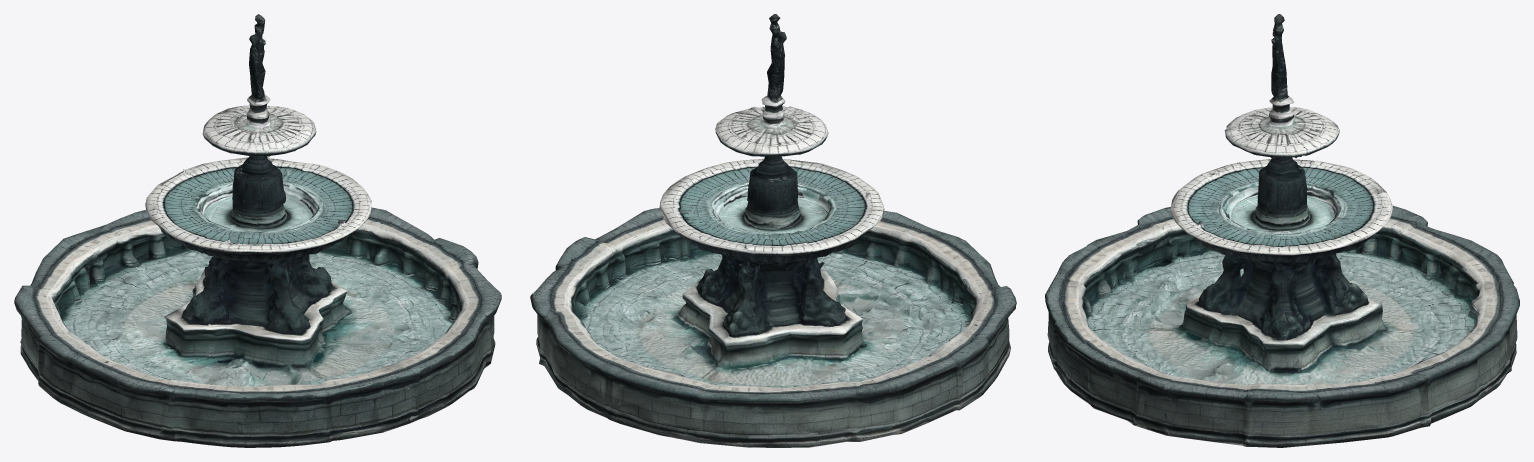
Rendered from city_fountain.glb.
3 views of the same model, side by side, from view 1: azimuth 30°, elevation 25°; view 2: azimuth 150°, elevation 25°; view 3: azimuth 270°, elevation 25° (orthographic).
Parts seen in each view (by area): view 1: city_fountain; view 2: city_fountain; view 3: city_fountain.
Part boxes in pixels (box(x1,y1,x2,y2)): city_fountain: box(14, 14, 501, 447); city_fountain: box(530, 14, 1016, 447); city_fountain: box(1045, 14, 1519, 447).
Size of the model in its own units: 2 by 1.55 by 1.99.
1 material, 1 textured.
